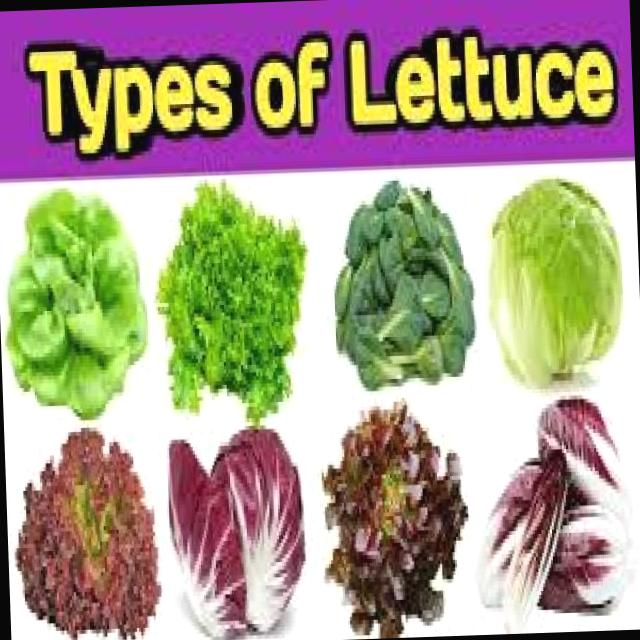Lettuce-Ready-to-Harvest: (158, 182, 305, 424), (482, 398, 628, 634), (323, 403, 467, 638), (7, 190, 146, 418), (17, 428, 158, 639), (335, 181, 474, 389), (169, 428, 304, 636), (491, 178, 621, 384)
